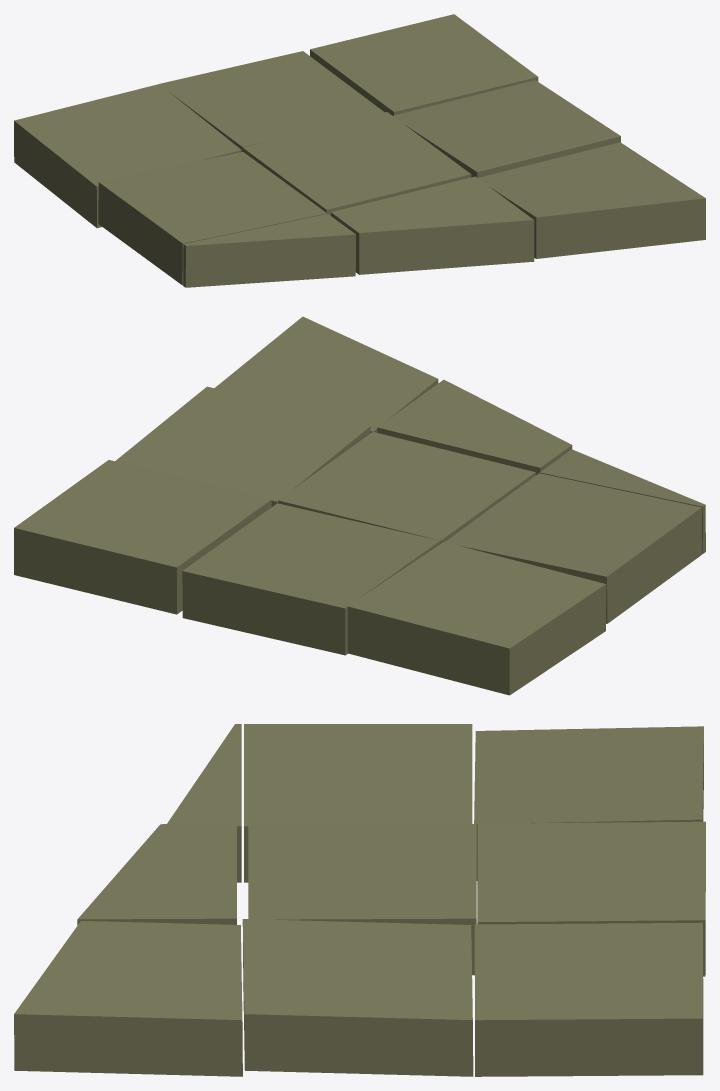
The model's file is ground 1.fbx.
3 views of the same model, one above another, from view 1: azimuth 30°, elevation 25°; view 2: azimuth 150°, elevation 25°; view 3: azimuth 270°, elevation 25° (orthographic). The views are drawn at different scales.
Parts seen in each view (by area): view 1: quad33, quad11, quad21, quad32, quad13, quad22, quad23, quad12, quad31; view 2: quad11, quad13, quad12, quad21, quad23, quad22, quad33, quad32, quad31; view 3: quad13, quad23, quad33, quad12, quad21, quad22, quad11, quad32, quad31.
Part boxes in pixels (x1=…): quad33: x1=478, y1=142, x2=705, y2=258; quad11: x1=14, y1=84, x2=241, y2=228; quad21: x1=98, y1=152, x2=326, y2=285; quad32: x1=331, y1=176, x2=534, y2=274; quad13: x1=310, y1=14, x2=538, y2=115; quad22: x1=242, y1=112, x2=471, y2=215; quad23: x1=393, y1=80, x2=620, y2=177; quad12: x1=159, y1=51, x2=384, y2=151; quad31: x1=183, y1=214, x2=355, y2=287; quad11: x1=347, y1=542, x2=606, y2=695; quad13: x1=14, y1=460, x2=271, y2=614; quad12: x1=182, y1=503, x2=440, y2=655; quad21: x1=445, y1=473, x2=702, y2=623; quad23: x1=115, y1=386, x2=370, y2=506; quad22: x1=278, y1=432, x2=535, y2=543; quad33: x1=214, y1=316, x2=438, y2=432; quad32: x1=377, y1=379, x2=572, y2=475; quad31: x1=540, y1=449, x2=705, y2=553; quad13: x1=474, y1=922, x2=703, y2=1076; quad23: x1=242, y1=919, x2=473, y2=1076; quad33: x1=14, y1=920, x2=242, y2=1076; quad12: x1=477, y1=821, x2=705, y2=976; quad21: x1=244, y1=724, x2=472, y2=882; quad22: x1=248, y1=823, x2=476, y2=975; quad11: x1=474, y1=726, x2=703, y2=880; quad32: x1=77, y1=823, x2=236, y2=925; quad31: x1=167, y1=724, x2=241, y2=882.
Bounding box in the file's own units: 506 × 52.03 × 506.
